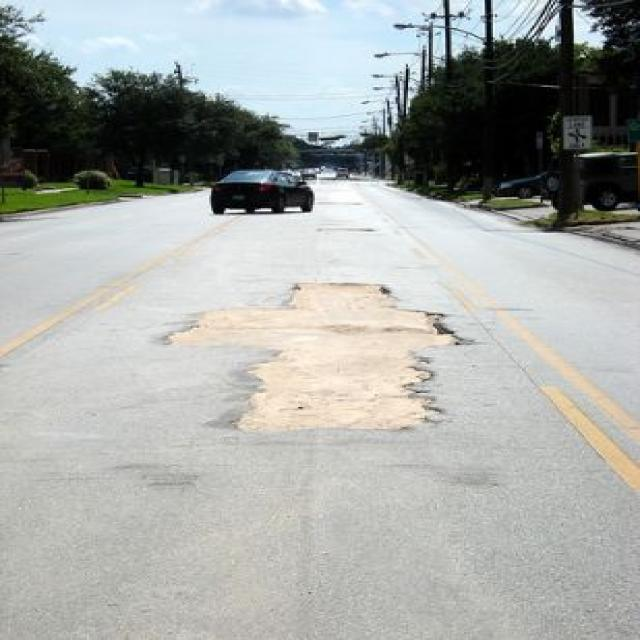pothole: (149, 275, 472, 433)
